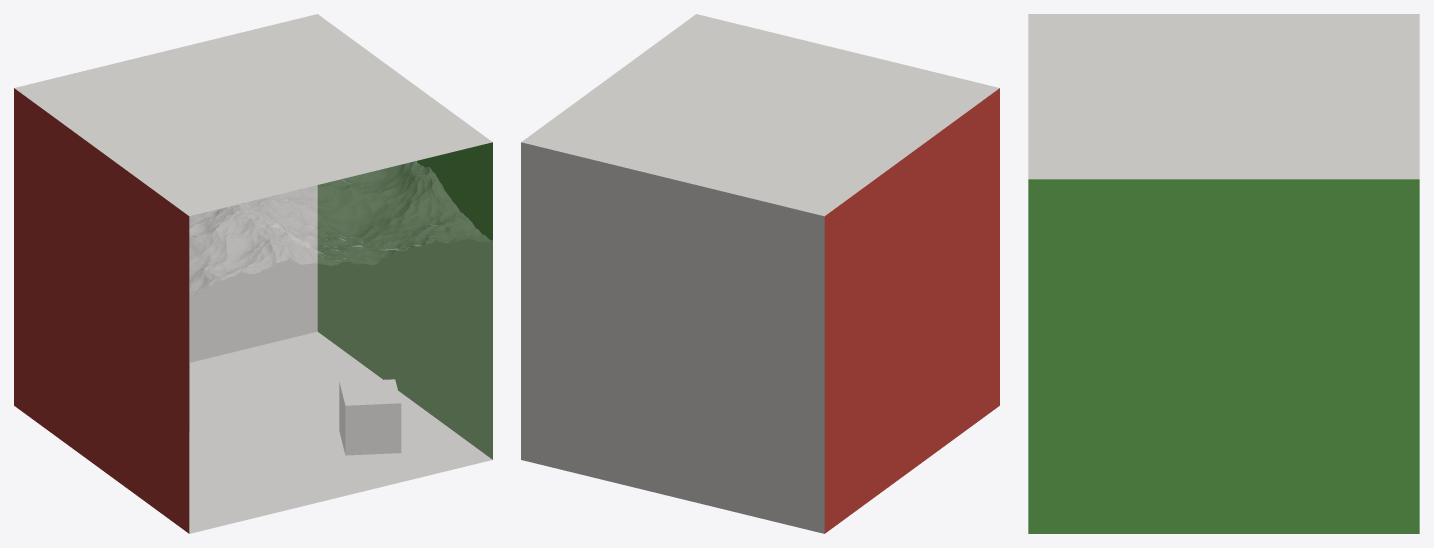
File: cornell_caustic_extended.glb
3 views of the same model, side by side, from view 1: azimuth 30°, elevation 25°; view 2: azimuth 150°, elevation 25°; view 3: azimuth 270°, elevation 25° (orthographic). The views are drawn at different scales.
Visible parts, largest first — view 1: 09_Water, 04_LeftWall, 01_Ceiling, 03_RightWall, 00_Floor, 08_Water, 02_BackWall, 05_ShortBox; view 2: 02_BackWall, 04_LeftWall, 01_Ceiling; view 3: 03_RightWall, 01_Ceiling.
Part boxes in pixels (<box>): 09_Water: <box>189,239,492,533</box>; 04_LeftWall: <box>14,88,189,533</box>; 01_Ceiling: <box>14,14,492,216</box>; 03_RightWall: <box>317,142,492,459</box>; 00_Floor: <box>189,331,492,533</box>; 08_Water: <box>189,161,490,298</box>; 02_BackWall: <box>189,185,317,362</box>; 05_ShortBox: <box>339,379,401,455</box>; 02_BackWall: <box>521,142,824,533</box>; 04_LeftWall: <box>824,88,999,533</box>; 01_Ceiling: <box>521,14,999,216</box>; 03_RightWall: <box>1028,179,1419,533</box>; 01_Ceiling: <box>1028,14,1419,179</box>.
Size of the model in its own units: 2 by 2.01 by 2.
